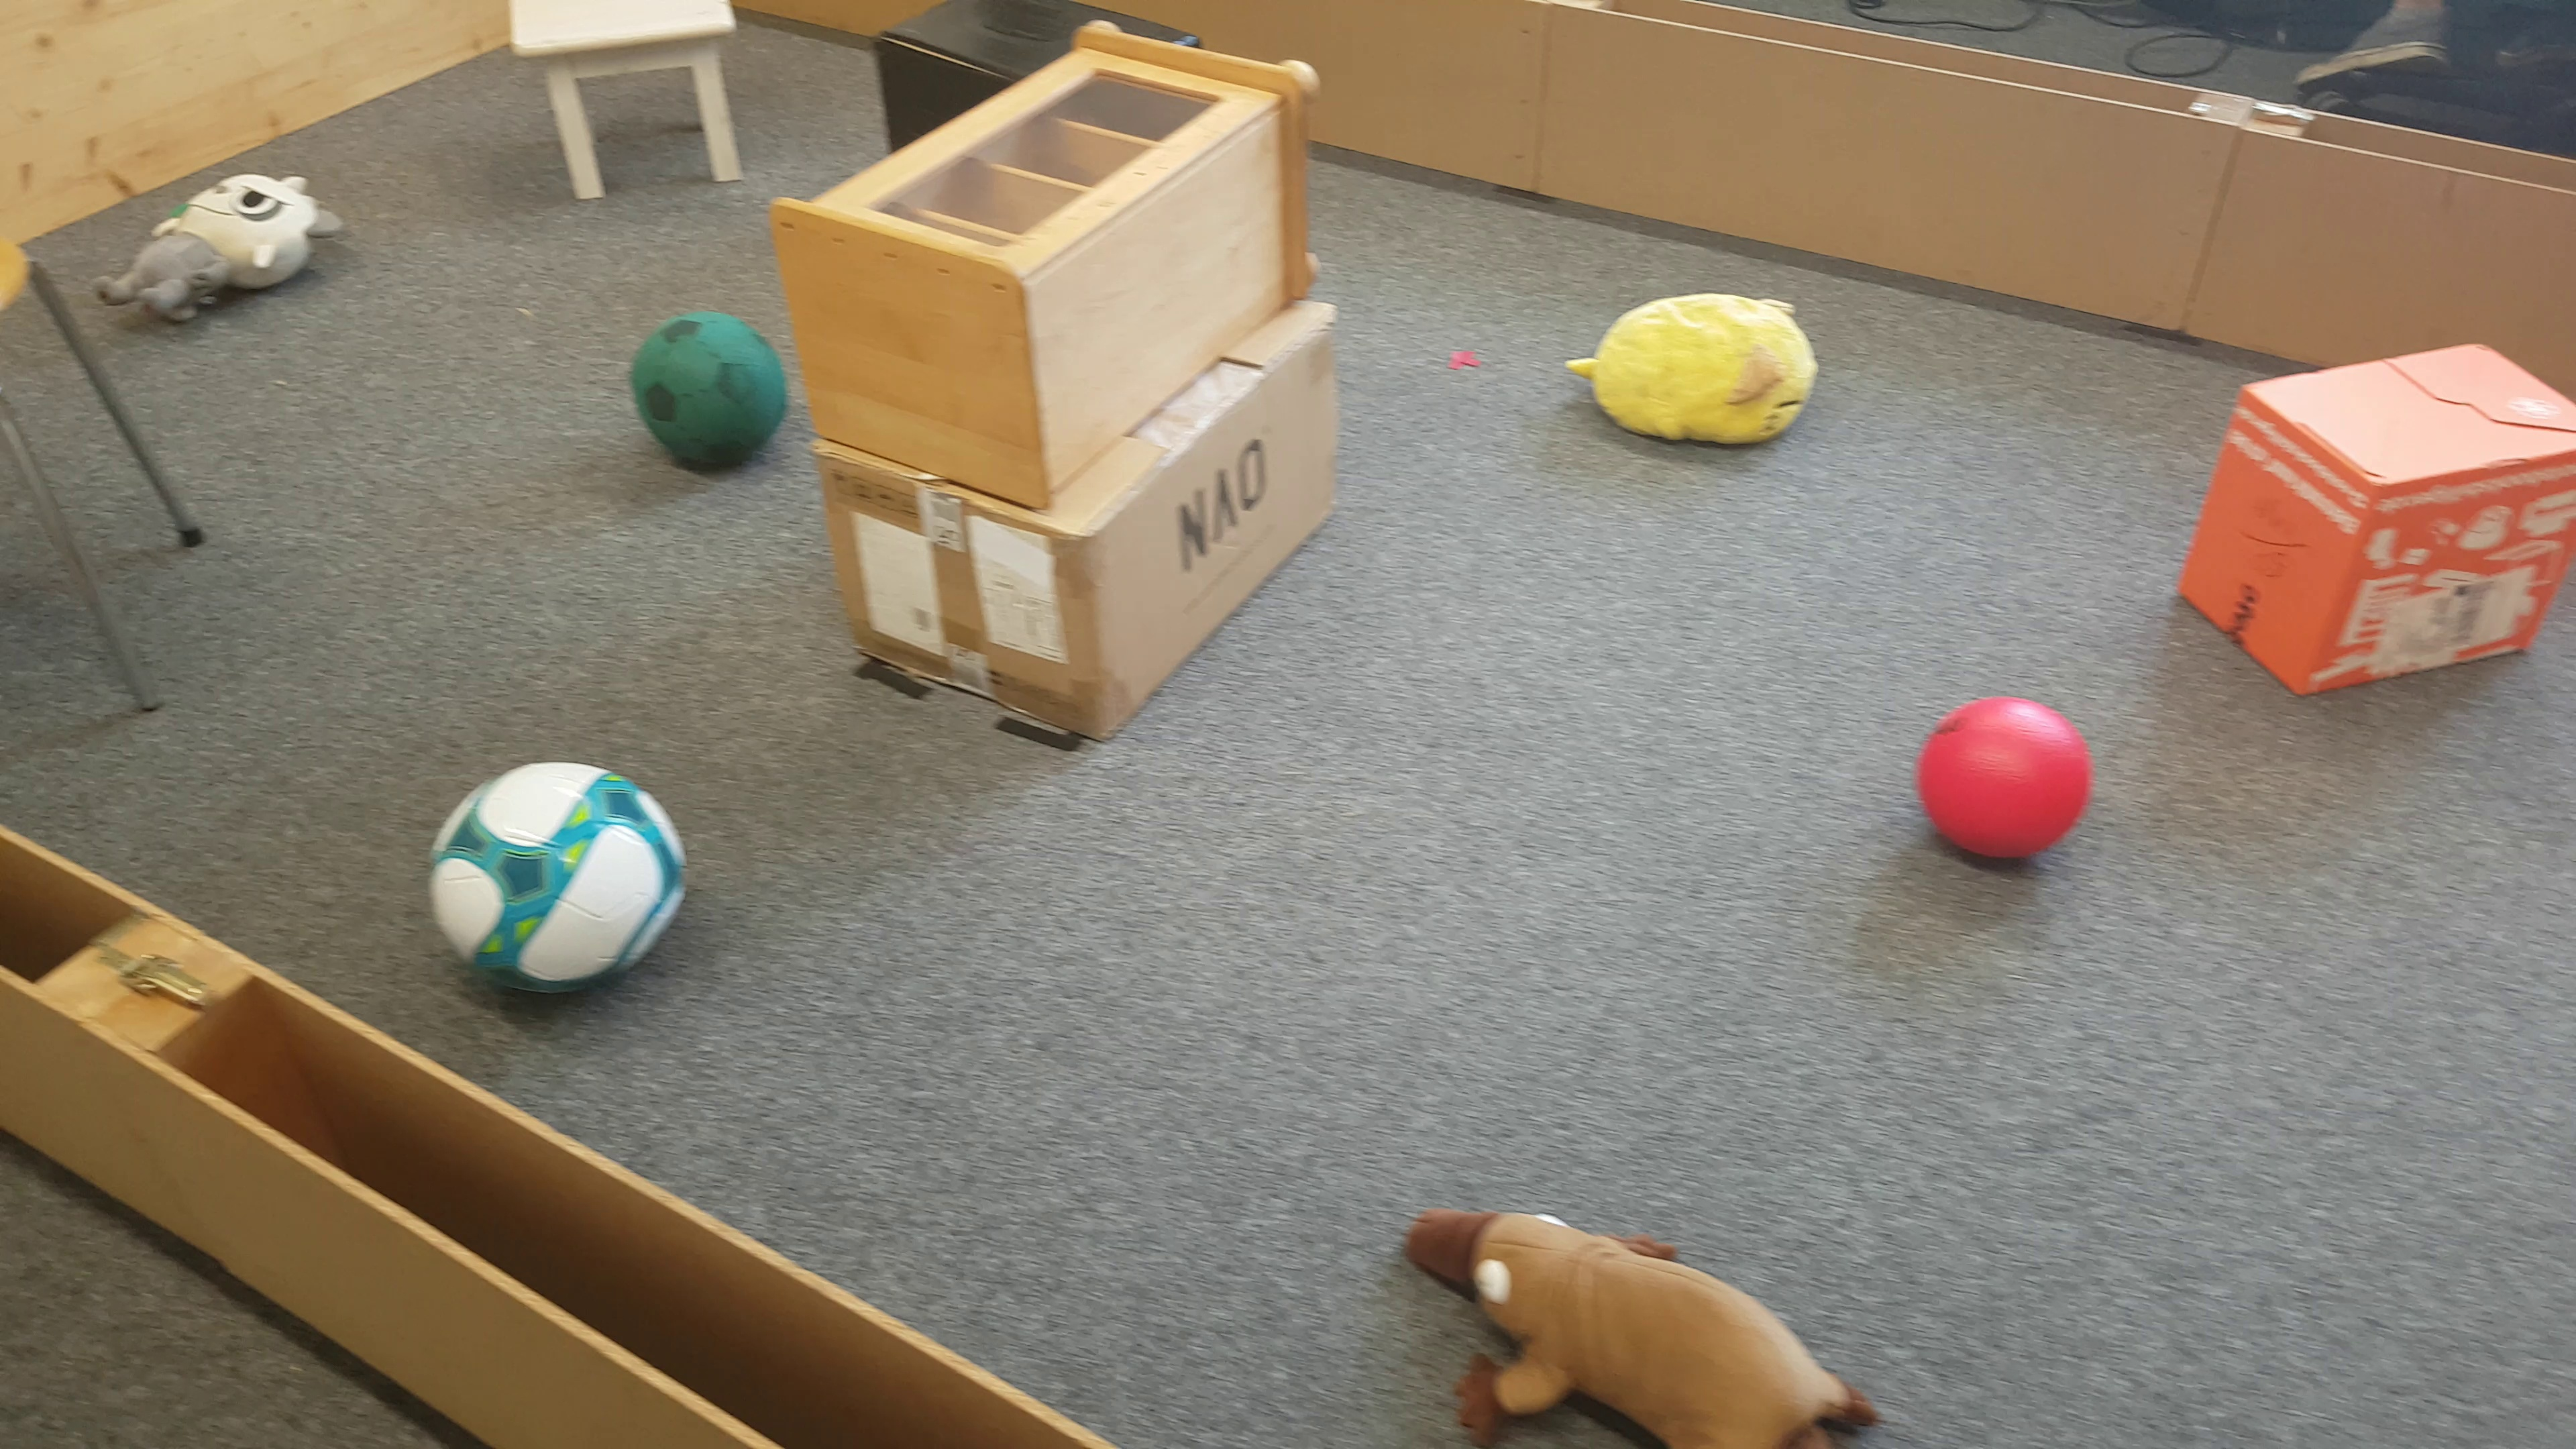grasp: (1405, 1210, 1874, 1449), (1569, 288, 1819, 441), (106, 170, 341, 329)
kick: (428, 763, 683, 998), (1916, 692, 2095, 869), (635, 313, 789, 469)
push: (2189, 336, 2576, 694), (879, 11, 1047, 64)
